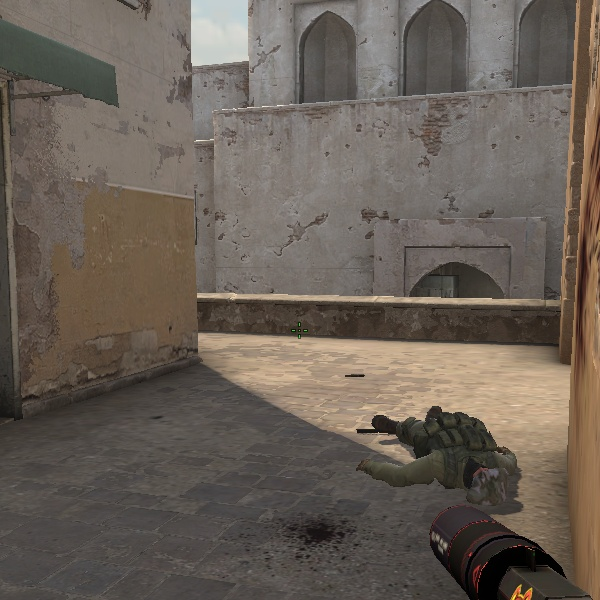ct_head: (416, 403, 454, 439)
